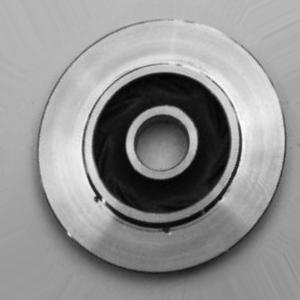defect: (83, 187, 186, 246)
